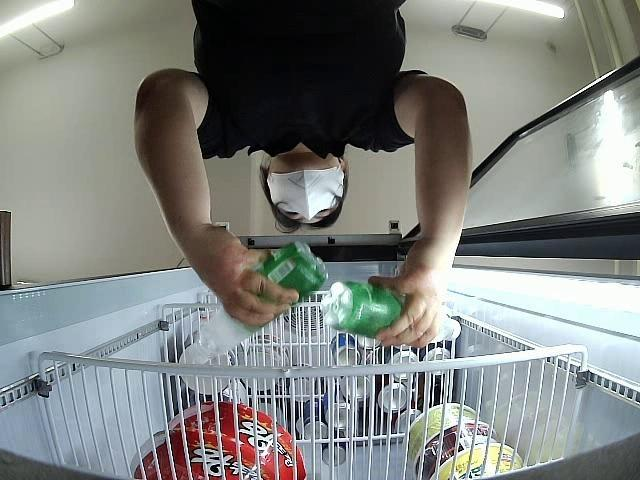18_trevi: (177, 240, 326, 357), (321, 282, 460, 348)
